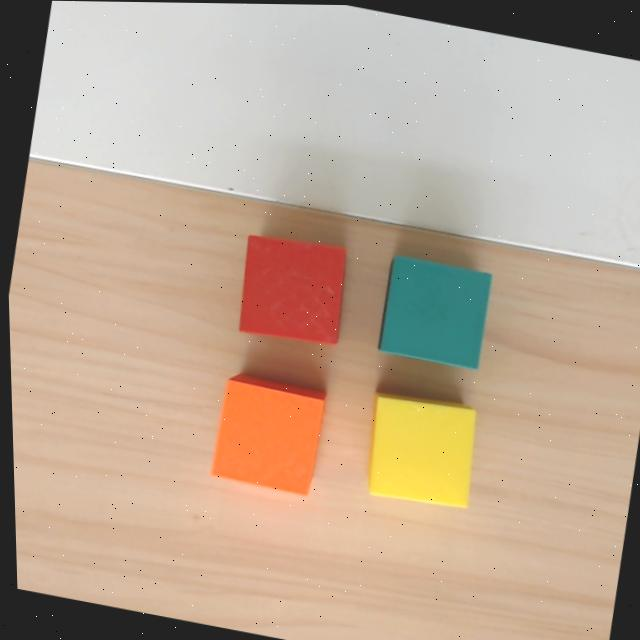Kubus-Hijau-505050: (377, 254, 491, 369)
Kubus-Jingga-505050: (206, 371, 330, 496)
Kubus-Kuning-505050: (364, 393, 479, 508)
Kubus-Merah-505050: (238, 234, 347, 344)
